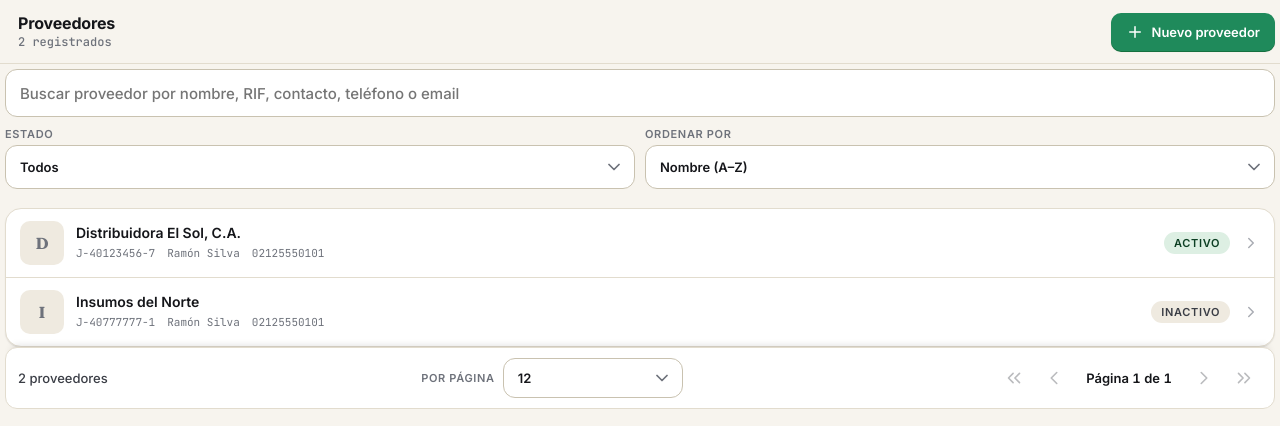
Proveedores — list behaviour › an inactive supplier is chipped as such and filtered by Estado
The image size is (1280, 426).
Expected: the text "Inactivo" is shown, [1151, 301, 1230, 323]
Step 1. Select "Activos" in the dropdown labelled "Estado" → (320, 167), box [5, 145, 635, 189]
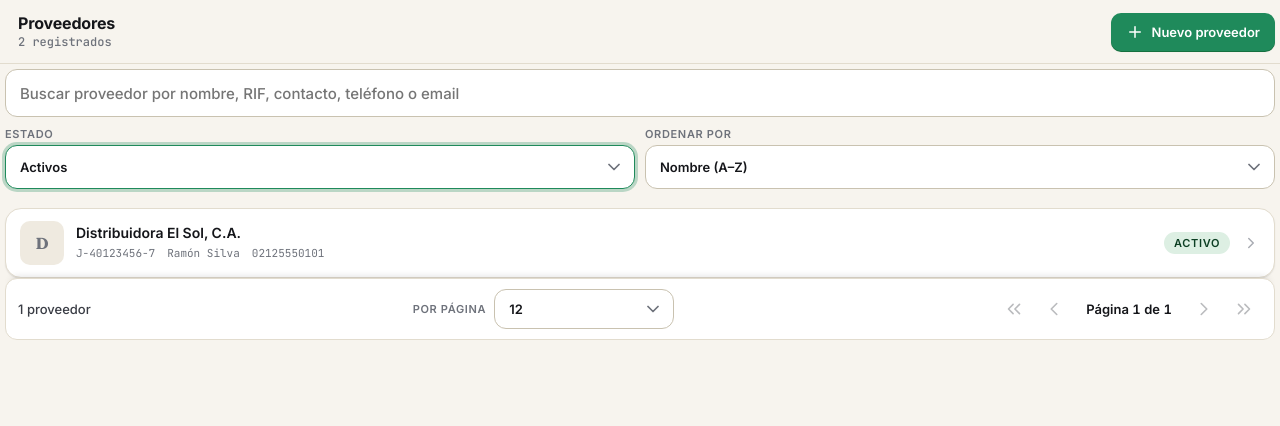
Expected: the text "Distribuidora El Sol, C.A." is shown, [76, 224, 241, 240]
Expected: the text "Insumos del Norte" is gone
